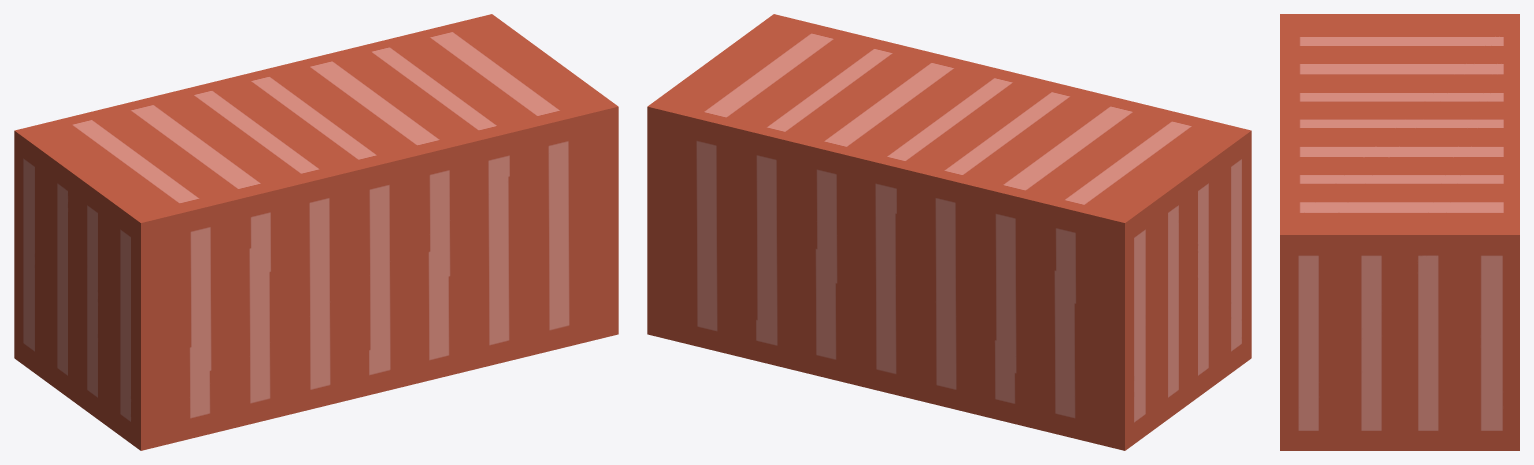
File: ContR.fbx
3 renders of one model, left to right at view 1: azimuth 30°, elevation 25°; view 2: azimuth 150°, elevation 25°; view 3: azimuth 270°, elevation 25°, orthographic. The views are drawn at different scales.
Parts seen in each view (by area): view 1: ContR; view 2: ContR; view 3: ContR.
Part boxes in pixels (box(x1,y1,x2,y2)): ContR: box(14, 14, 618, 450); ContR: box(647, 14, 1251, 450); ContR: box(1280, 14, 1519, 450).
Bounding box in the file's own units: 48.25 × 21.99 × 22.13.
